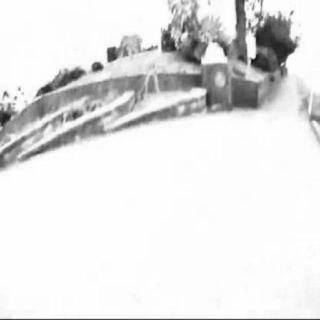other: (170, 124, 312, 224), (137, 46, 195, 106)
